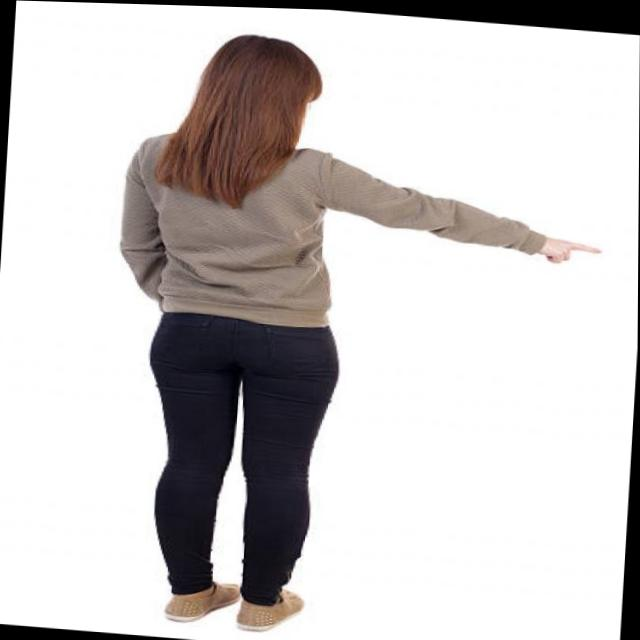no helmet: (187, 25, 337, 180)
